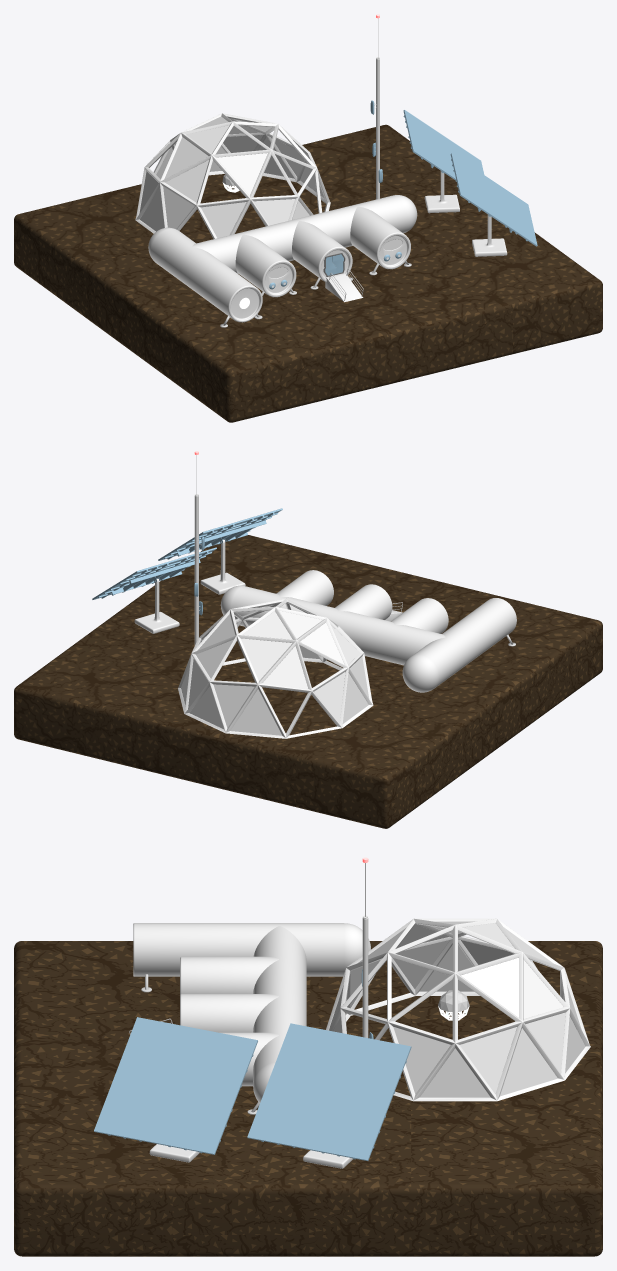
File: SpaceCamp2.gltf
3 renders of one model, top to bottom at view 1: azimuth 30°, elevation 25°; view 2: azimuth 150°, elevation 25°; view 3: azimuth 270°, elevation 25°, orthographic. The views are drawn at different scales.
Parts seen in each view (by area): view 1: GroundObject, TubeObjects, SolarPanel1, SolarPanel2, DoorObjects; view 2: GroundObject, TubeObjects, SolarPanel2, SolarPanel1; view 3: GroundObject, TubeObjects, SolarPanel2, SolarPanel1.
Part boxes in pixels (left/top/right/bottom): GroundObject: left=14, top=124, right=602, bottom=422; TubeObjects: left=135, top=18, right=507, bottom=322; SolarPanel1: left=450, top=153, right=537, bottom=246; SolarPanel2: left=403, top=110, right=484, bottom=180; DoorObjects: left=222, top=100, right=401, bottom=289; GroundObject: left=14, top=535, right=602, bottom=828; TubeObjects: left=134, top=455, right=516, bottom=738; SolarPanel2: left=92, top=547, right=216, bottom=599; SolarPanel1: left=158, top=508, right=282, bottom=560; GroundObject: left=14, top=941, right=602, bottom=1256; TubeObjects: left=133, top=863, right=590, bottom=1168; SolarPanel2: left=247, top=1023, right=411, bottom=1160; SolarPanel1: left=94, top=1017, right=257, bottom=1154.
Size of what is drawn, in the model's own units: 1.53 by 0.9458 by 1.5.
7 materials, 1 textured.
